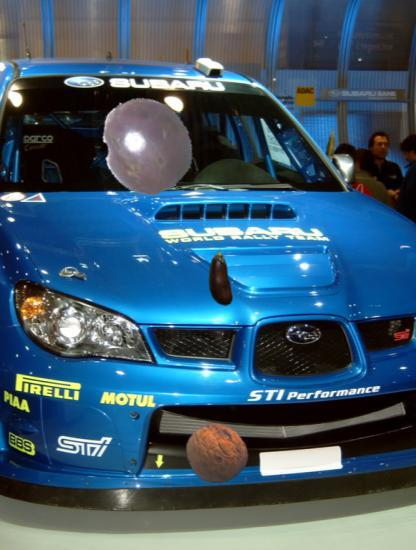Eggplant: (191, 251, 248, 308)
Passion: (97, 95, 196, 194)
Walnut: (186, 422, 248, 484)
